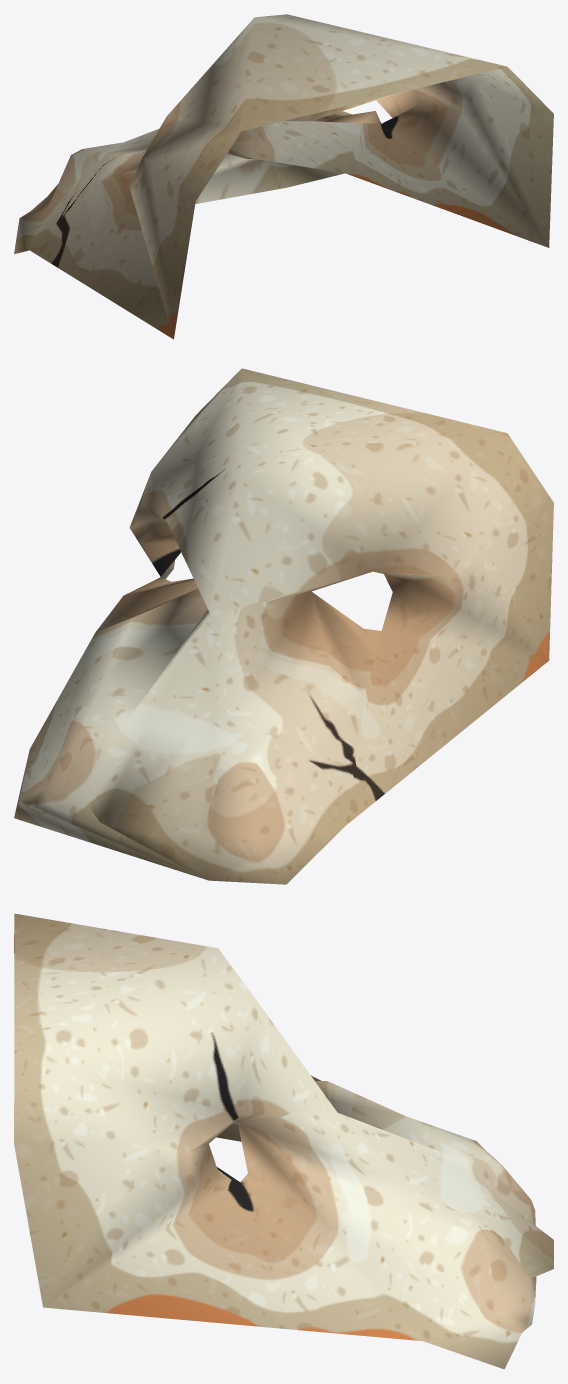
The model's file is cabecaDino01low2.FBX.
3 renders of one model, top to bottom at view 1: azimuth 30°, elevation 25°; view 2: azimuth 150°, elevation 25°; view 3: azimuth 270°, elevation 25°, orthographic. The views are drawn at different scales.
Visible parts, largest first — view 1: cabecaDino; view 2: cabecaDino; view 3: cabecaDino.
Boxes of the visible parts, bbox=[...] form: cabecaDino: bbox=[14, 14, 553, 339]; cabecaDino: bbox=[14, 368, 553, 884]; cabecaDino: bbox=[14, 913, 553, 1369].
Size of the model in its own units: 637 by 497 by 728.
Materials: 1 (1 with a texture image).
